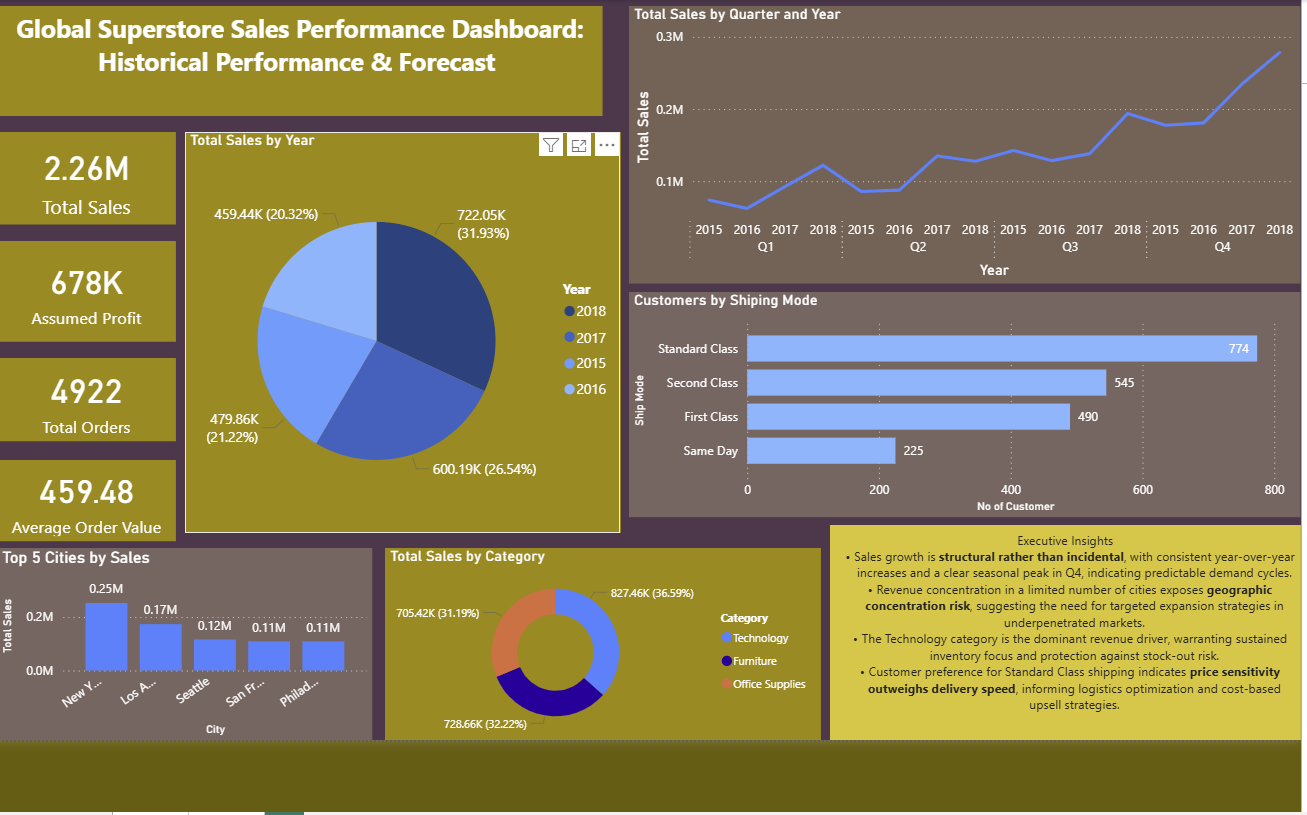

What the dashboard file says about the page in this screenshot:
{"tool":"powerbi","page":{"name":"Page 1","canvas":[1280,720],"ordinal":0},"visuals":[{"type":"card","fields":{"Values":["train.Total Sales"]},"box":[11.7,128.4,174.1,90.5],"z":0},{"type":"card","fields":{"Values":["train.AVO"]},"box":[11.7,447.4,174.1,78.8],"z":1000},{"type":"card","fields":{"Values":["train.Total Orders"]},"box":[11.7,348.2,174.1,80.7],"z":2000},{"type":"columnChart","title":"Top 5 Cities by Sales","fields":{"Y":["train.Total Sales"],"Category":["train.City"]},"box":[11.6,532.8,365.4,187.2],"z":3000},{"type":"donutChart","fields":{"Category":["train.Category"],"Y":["train.Total Sales"]},"box":[388.7,532.8,423.6,187.2],"z":4000},{"type":"clusteredBarChart","title":"Customers by Shiping Mode","fields":{"Category":["train.Ship Mode"],"Y":["Count(train.Customer ID)"]},"box":[626.9,283.9,652.8,219.4],"z":5000},{"type":"pieChart","fields":{"Category":["Date.Year"],"Y":["train.Total Sales"]},"box":[194.3,128.1,423.6,390.4],"z":6000},{"type":"lineChart","fields":{"Category":["Date.Quarter","Date.Year"],"Y":["train.Total Sales"]},"box":[626.9,6.3,652.8,269.6],"z":7000},{"type":"card","fields":{"Values":["train.Estimated Profit"]},"box":[11.7,234.4,174.1,98.2],"z":8000},{"type":"textbox","box":[11.7,5.8,589.4,107],"z":9000},{"type":"textbox","box":[822.1,510.4,457.6,209.6],"z":10000}]}

Visuals, with their boxes on the page's 1280x720 design canvas (x1, y1, x2, y2). These are canvas units, not pixel positions in the 1307x815 screenshot, which may show the page scaled, cropped or inside an application window:
card - train.Total Sales: locate(12, 128, 186, 219)
card - train.AVO: locate(12, 447, 186, 526)
card - train.Total Orders: locate(12, 348, 186, 429)
"Top 5 Cities by Sales" columnChart: locate(12, 533, 377, 720)
donutChart - train.Category x train.Total Sales: locate(389, 533, 812, 720)
"Customers by Shiping Mode" clusteredBarChart: locate(627, 284, 1280, 503)
pieChart - Date.Year x train.Total Sales: locate(194, 128, 618, 518)
lineChart - Date.Quarter x Date.Year: locate(627, 6, 1280, 276)
card - train.Estimated Profit: locate(12, 234, 186, 333)
textbox: locate(12, 6, 601, 113)
textbox: locate(822, 510, 1280, 720)
